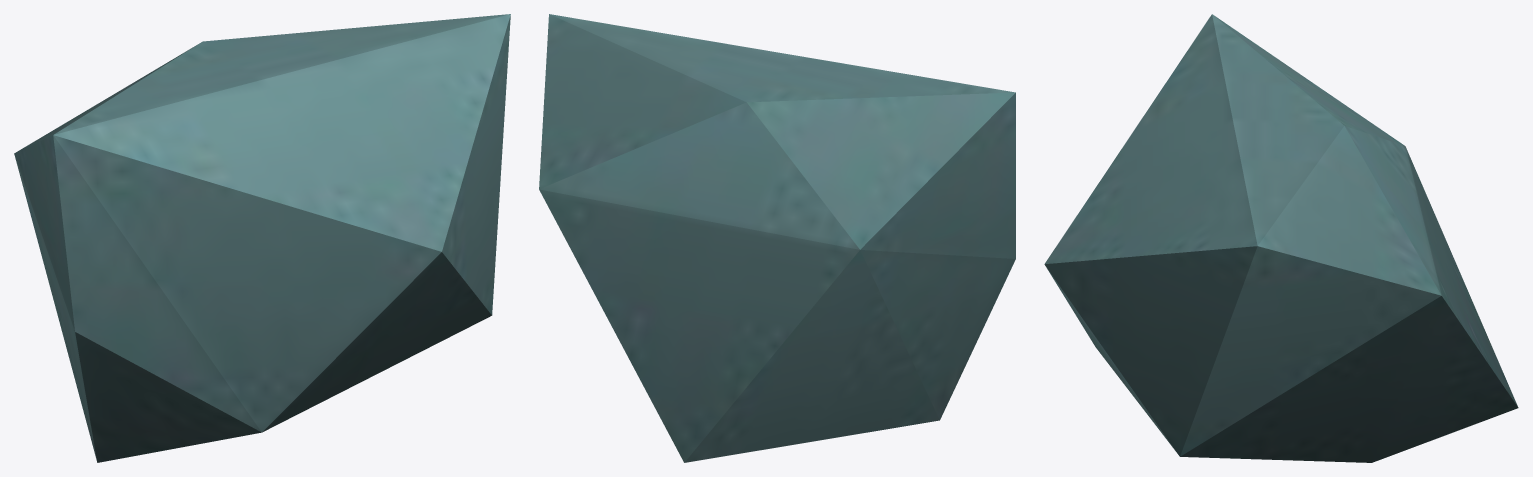
File: oxide-asteroid-chunk.glb
3 views of the same model, side by side, from view 1: azimuth 30°, elevation 25°; view 2: azimuth 150°, elevation 25°; view 3: azimuth 270°, elevation 25° (orthographic). The views are drawn at different scales.
Parts seen in each view (by area): view 1: oxide-asteroid-chunk; view 2: oxide-asteroid-chunk; view 3: oxide-asteroid-chunk.
Part boxes in pixels (x1,y1,x2,y2): oxide-asteroid-chunk: [14, 14, 510, 462]; oxide-asteroid-chunk: [539, 14, 1015, 462]; oxide-asteroid-chunk: [1044, 14, 1518, 462].
Size of the model in its own units: 0.24 by 0.17 by 0.22.
1 material, 1 textured.
